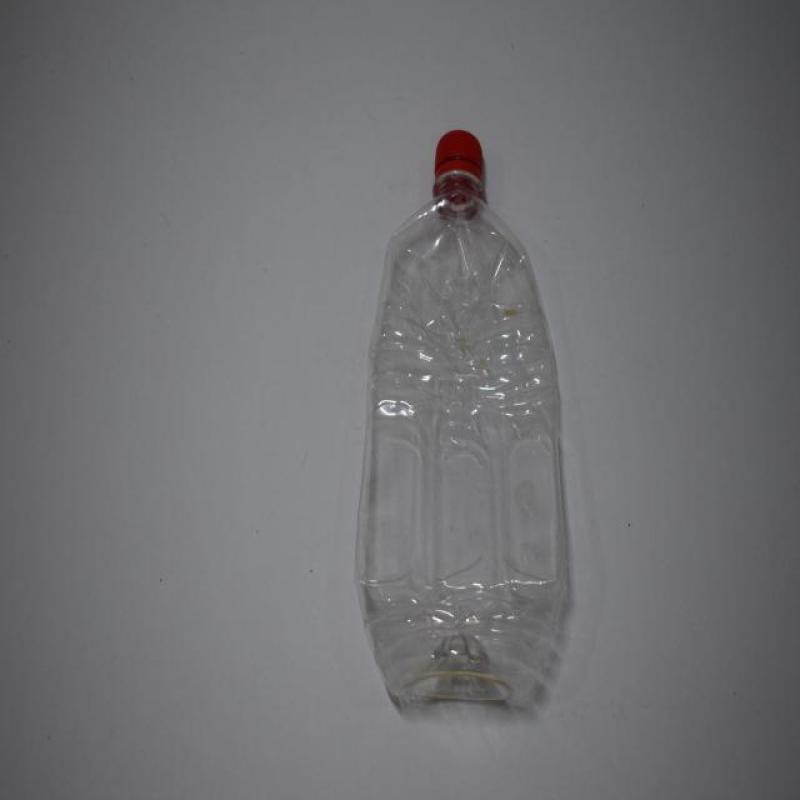botella: (354, 125, 574, 710)
